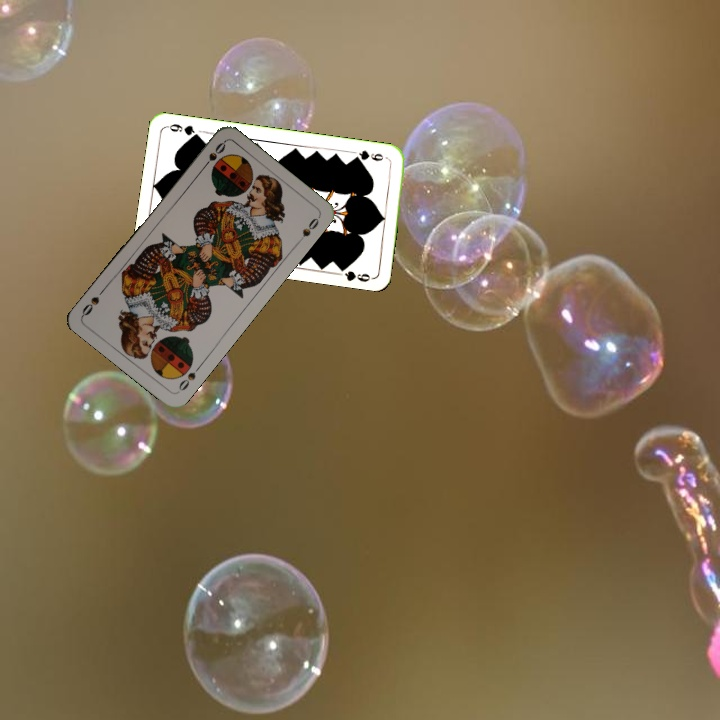G9: (350, 146, 386, 164)
SO: (198, 138, 228, 173), (174, 361, 204, 395)
